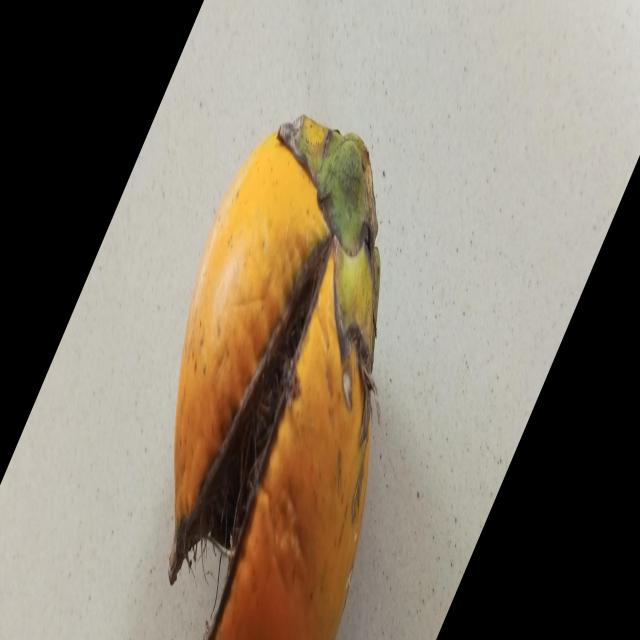damaged: (169, 119, 380, 640)
